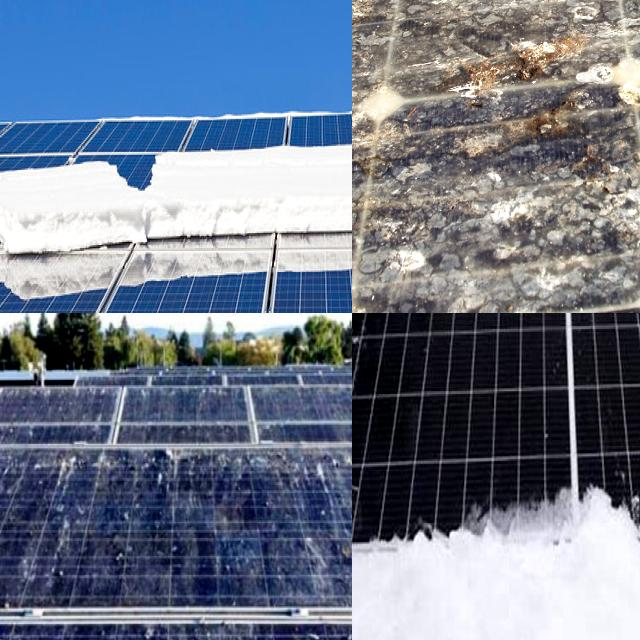bird: (428, 27, 616, 186), (24, 450, 74, 558), (463, 0, 636, 29), (248, 456, 352, 503), (108, 534, 175, 580)
panel: (0, 168, 147, 304), (433, 485, 539, 582), (12, 134, 131, 196), (352, 313, 379, 554), (545, 482, 635, 554), (225, 200, 324, 264), (0, 220, 110, 273), (138, 134, 228, 197), (352, 516, 431, 571), (125, 218, 214, 254), (452, 313, 559, 338), (243, 139, 312, 177), (0, 145, 29, 223), (567, 313, 640, 338), (0, 117, 28, 159), (367, 313, 439, 327), (322, 132, 352, 164), (0, 223, 18, 276), (0, 178, 24, 207)
